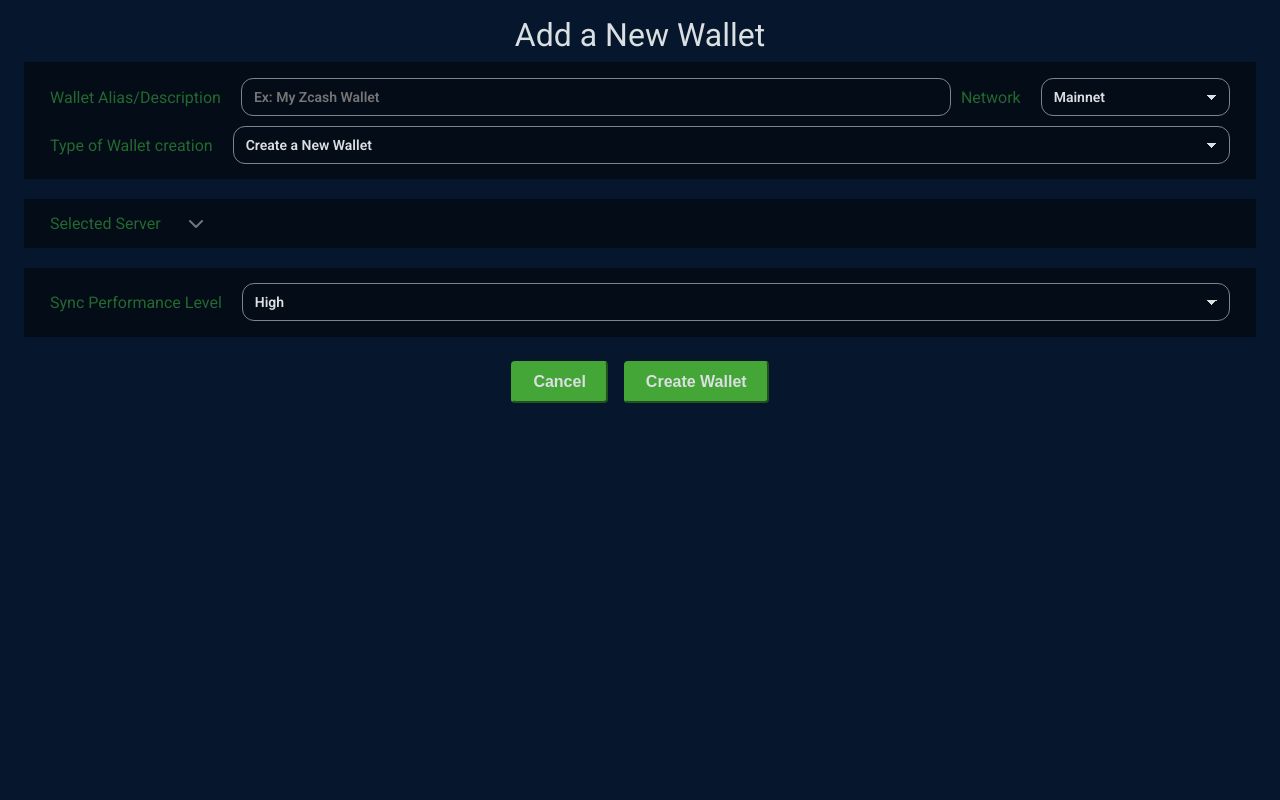
Test: AddNewWallet automatic server › offers Automatic while creating a wallet
Click the text "Selected Server" at (105, 224), box x1=50 y1=214 x2=160 y2=233
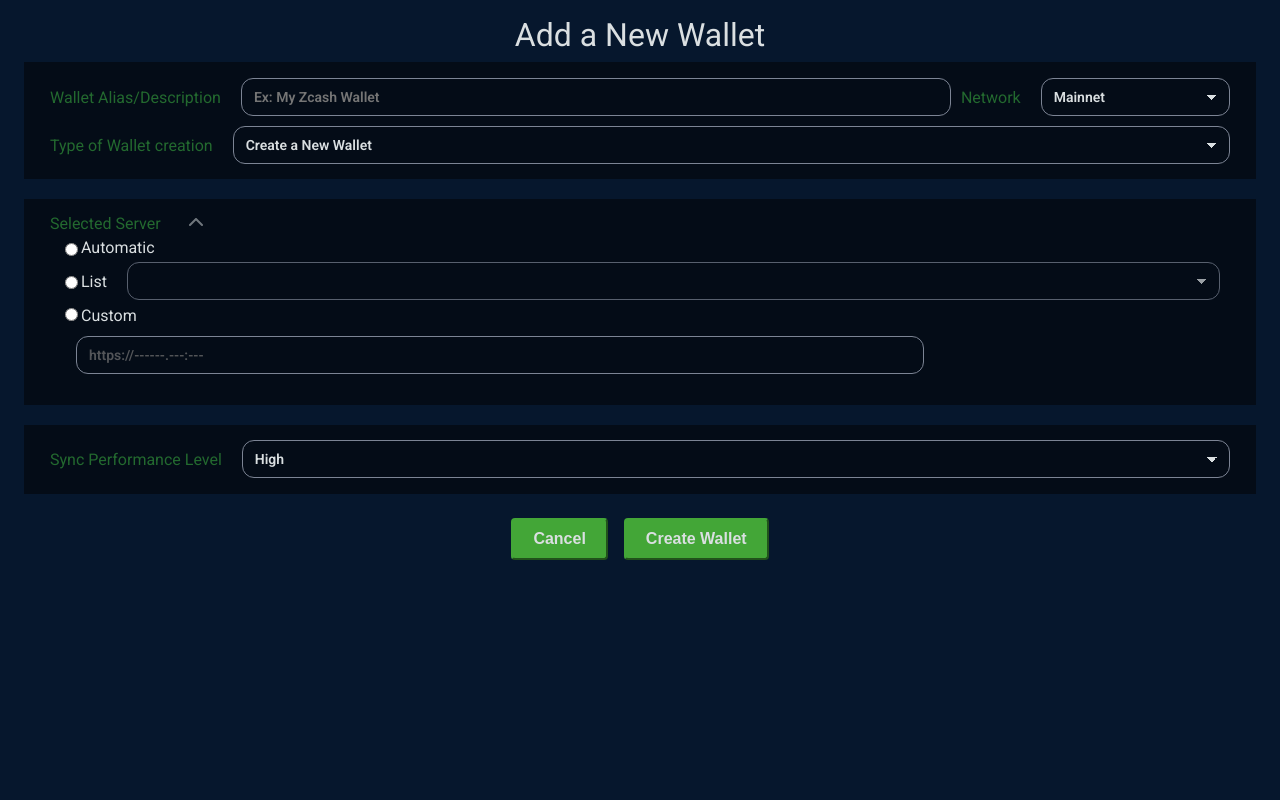
Expected: the radio button named "Automatic" is shown, x1=65 y1=242 x2=78 y2=256
